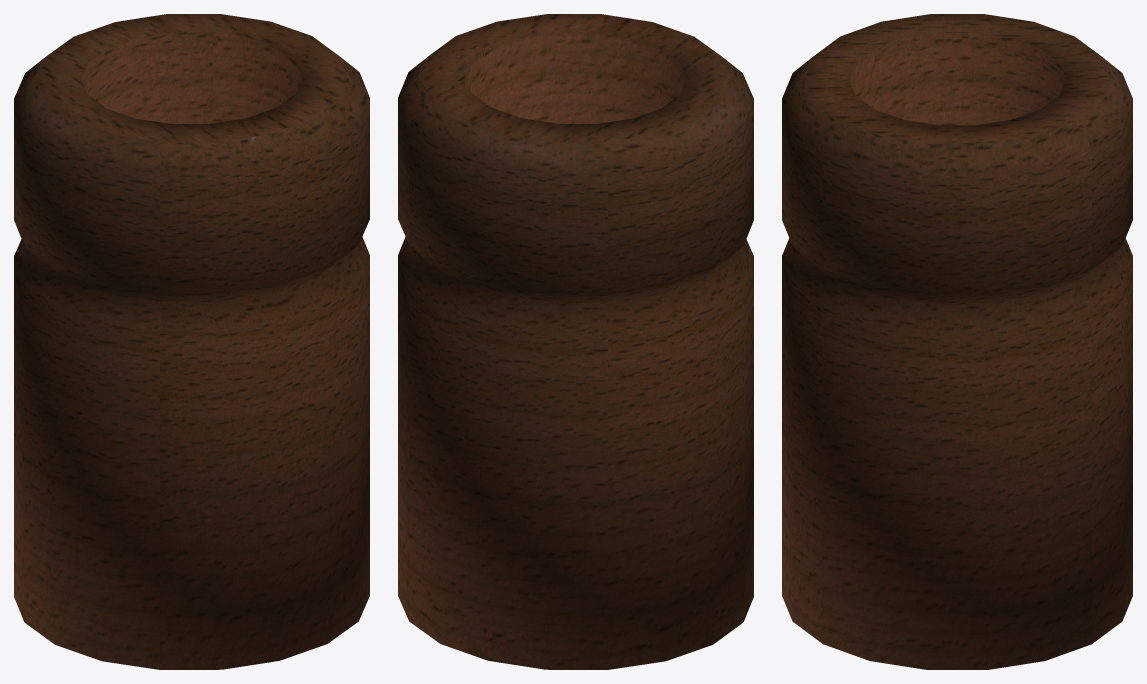
Rendered from Koma_C_So_C2.fbx.
The picture shows the model from 3 angles, left to right: view 1: azimuth 30°, elevation 25°; view 2: azimuth 150°, elevation 25°; view 3: azimuth 270°, elevation 25°; orthographic projection.
Parts seen in each view (by area): view 1: Koma_C_So_C2; view 2: Koma_C_So_C2; view 3: Koma_C_So_C2.
Boxes of the visible parts, left/top/right/bottom form: Koma_C_So_C2: left=14, top=14, right=369, bottom=669; Koma_C_So_C2: left=398, top=14, right=753, bottom=669; Koma_C_So_C2: left=782, top=14, right=1132, bottom=669.
Size of the model in its own units: 1.6 by 2.6 by 1.6.
Materials: 1 (1 with a texture image).
